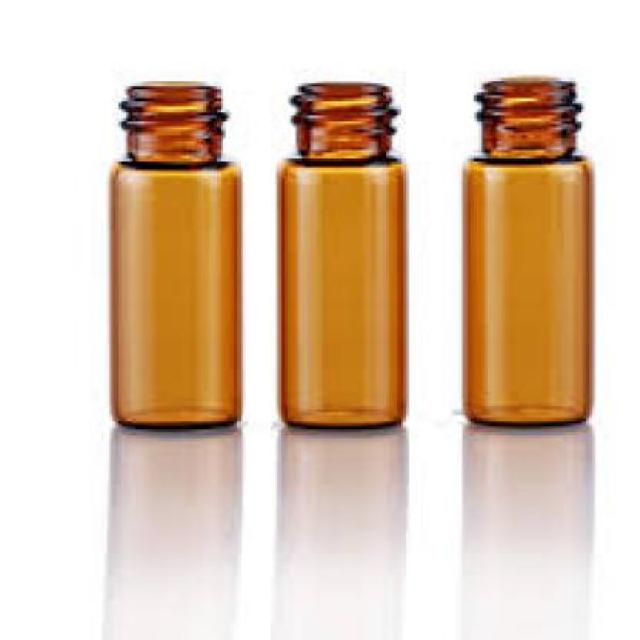kaca: (109, 81, 240, 428), (462, 75, 592, 423), (274, 82, 403, 424)
